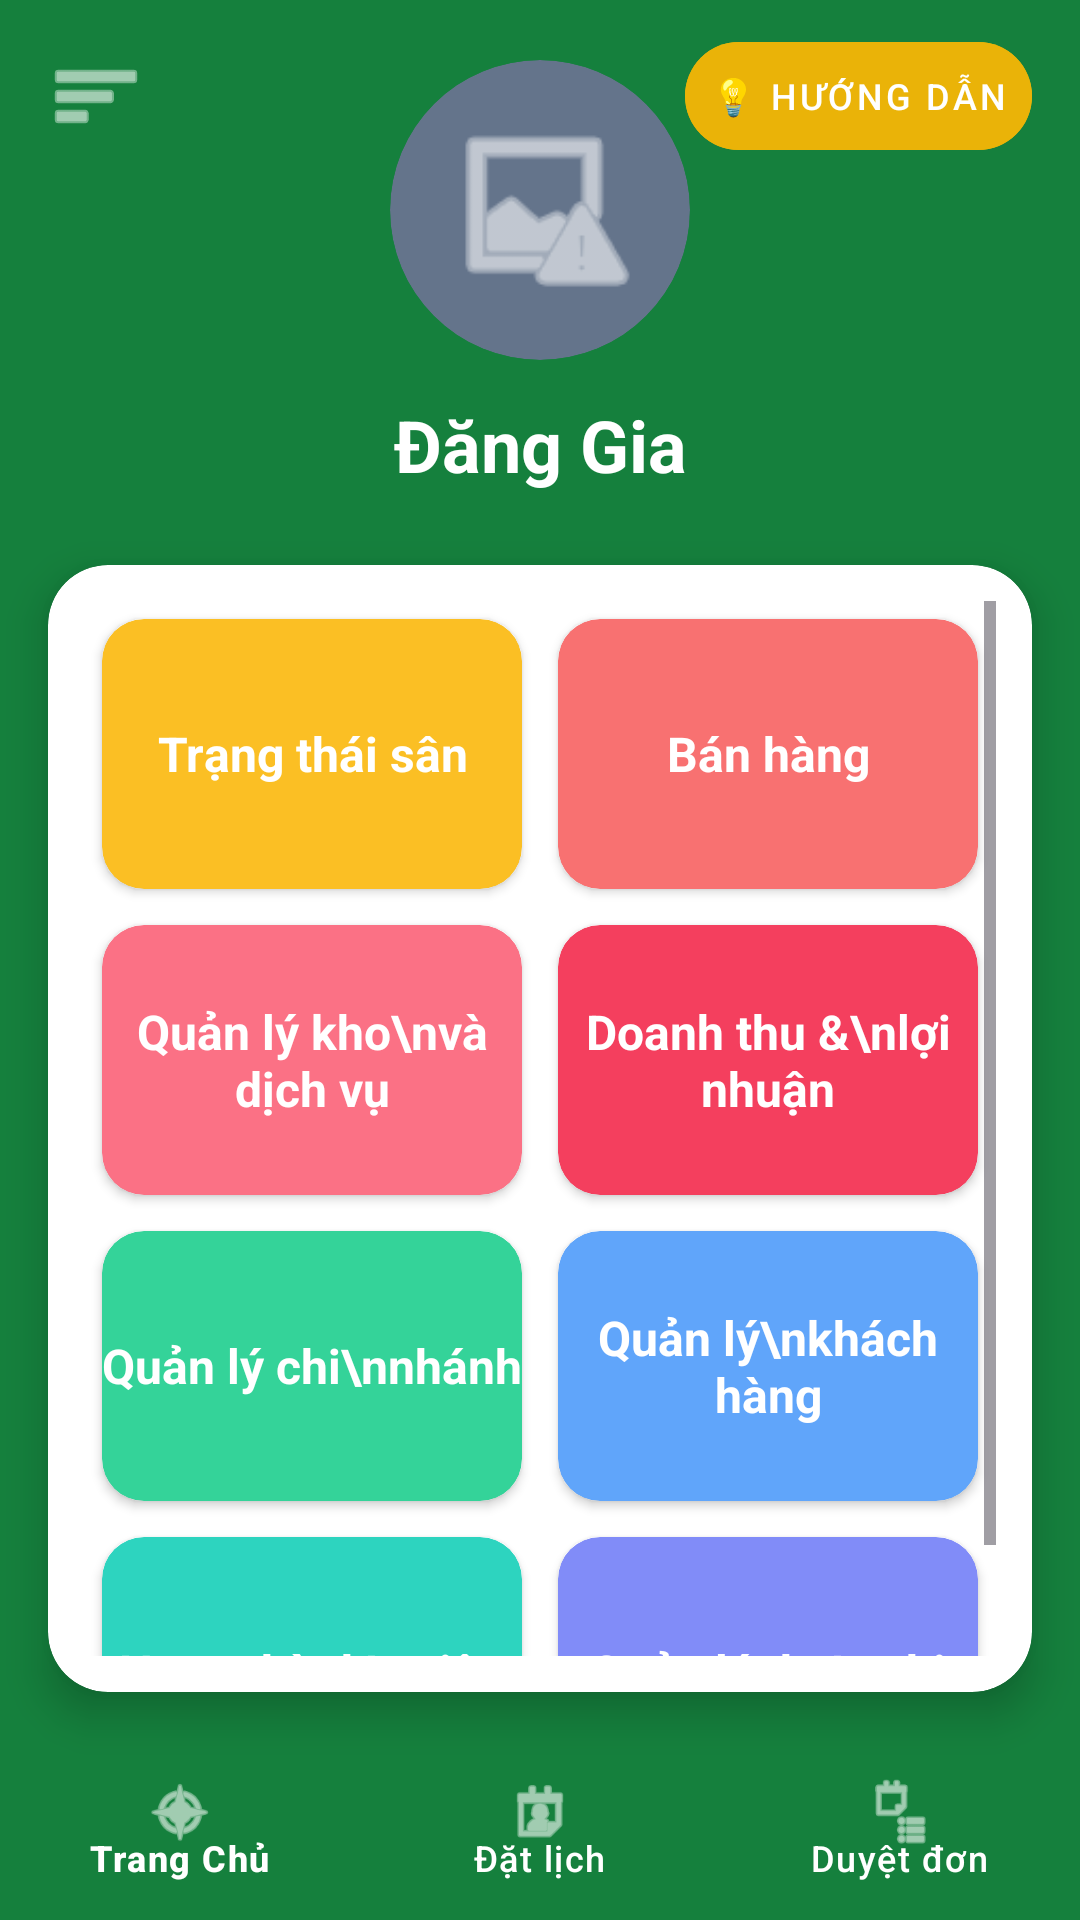

Named icons in this screenshot (1080x1920) and their bounding boxes, BBox(x1, y1, x2, y2):
sort by size: BBox(55, 70, 137, 123)
